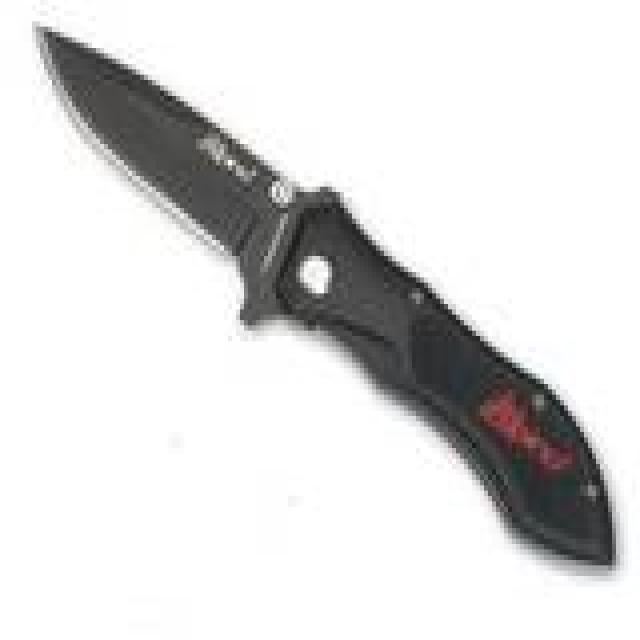Knife: (25, 13, 623, 577)
